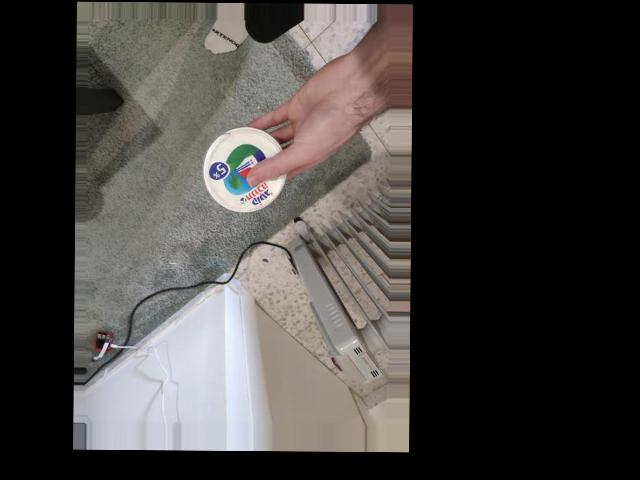cotage: (207, 129, 286, 208)
